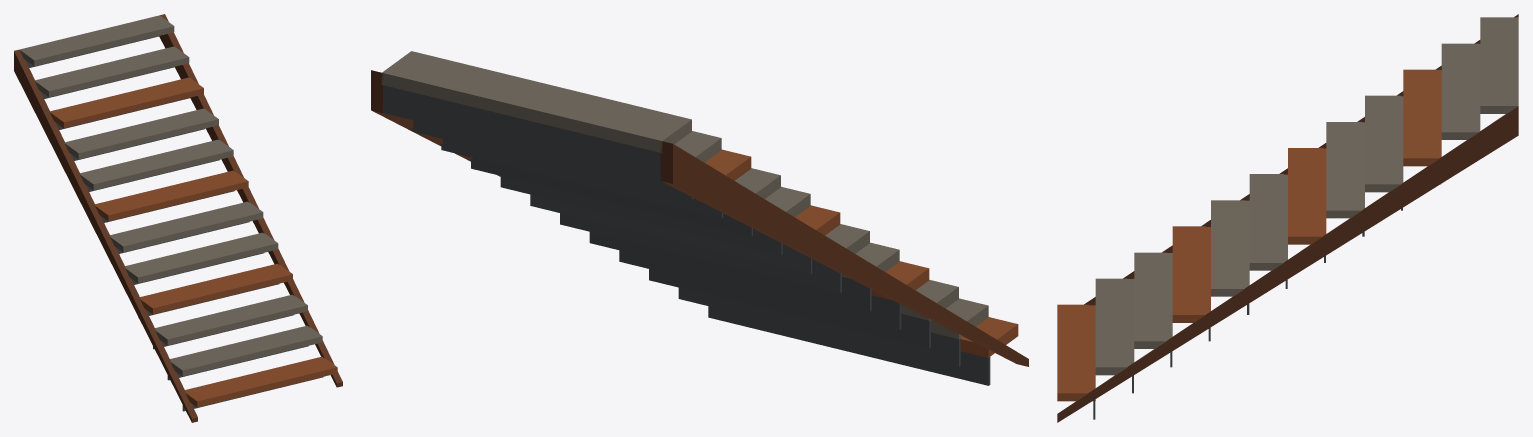
Rendered from piece_stairs.fbx.
3 renders of one model, left to right at view 1: azimuth 30°, elevation 25°; view 2: azimuth 150°, elevation 25°; view 3: azimuth 270°, elevation 25°, orthographic. The views are drawn at different scales.
Parts seen in each view (by area): view 1: piece_stairs; view 2: piece_stairs; view 3: piece_stairs.
Part boxes in pixels (bbox=[...]): piece_stairs: bbox=[14, 14, 342, 422]; piece_stairs: bbox=[371, 51, 1028, 385]; piece_stairs: bbox=[1057, 14, 1518, 422].
Size of the model in its own units: 1.96 by 3 by 4.
